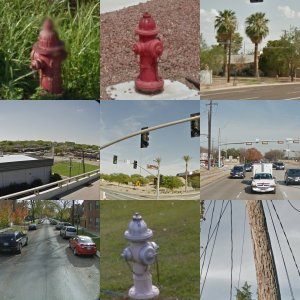汽車: (53, 114, 99, 182), (153, 137, 201, 195), (109, 14, 164, 45)
行人穿越道: (200, 126, 273, 160), (1, 206, 49, 237), (23, 74, 78, 83)
